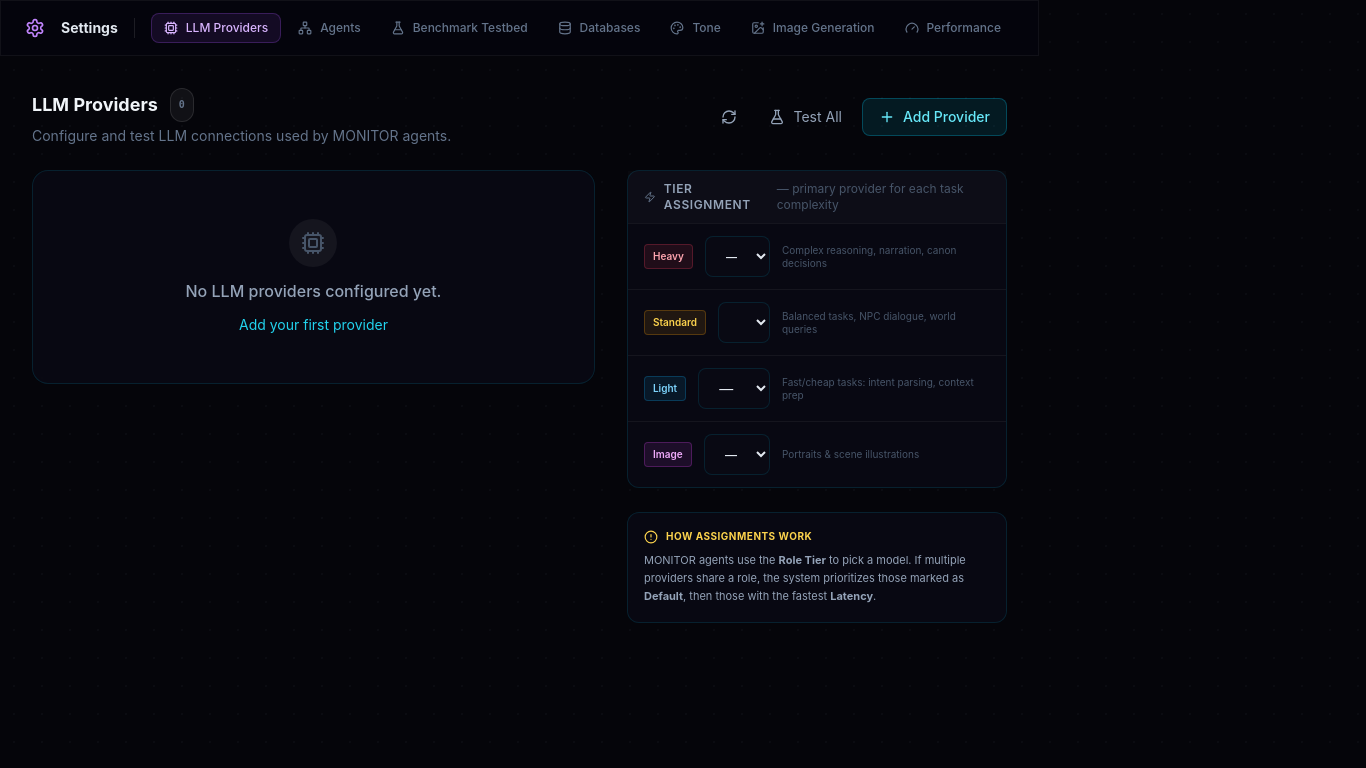
/config — image generation tab (Task 10) › renders the image tab with the current settings
Click the button "Image Generation". click: (813, 28)
box: [738,13,888,43]
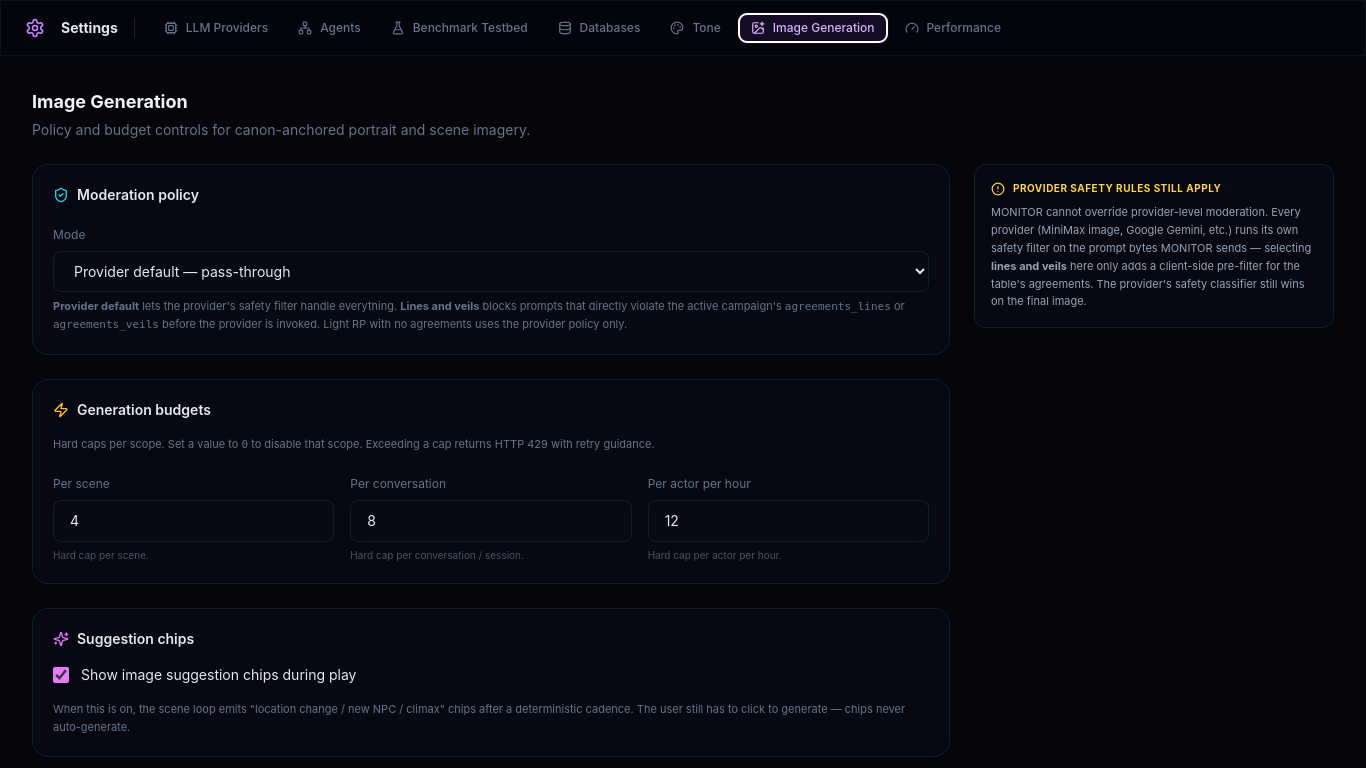
Check: the number field labelled "Per scene" holds "4", box [53,500,334,542]
Check: the number field labelled "Per conversation" holds "8", box [350,500,632,542]
Check: the number field labelled "Per actor per hour" holds "12", box [648,500,929,542]
